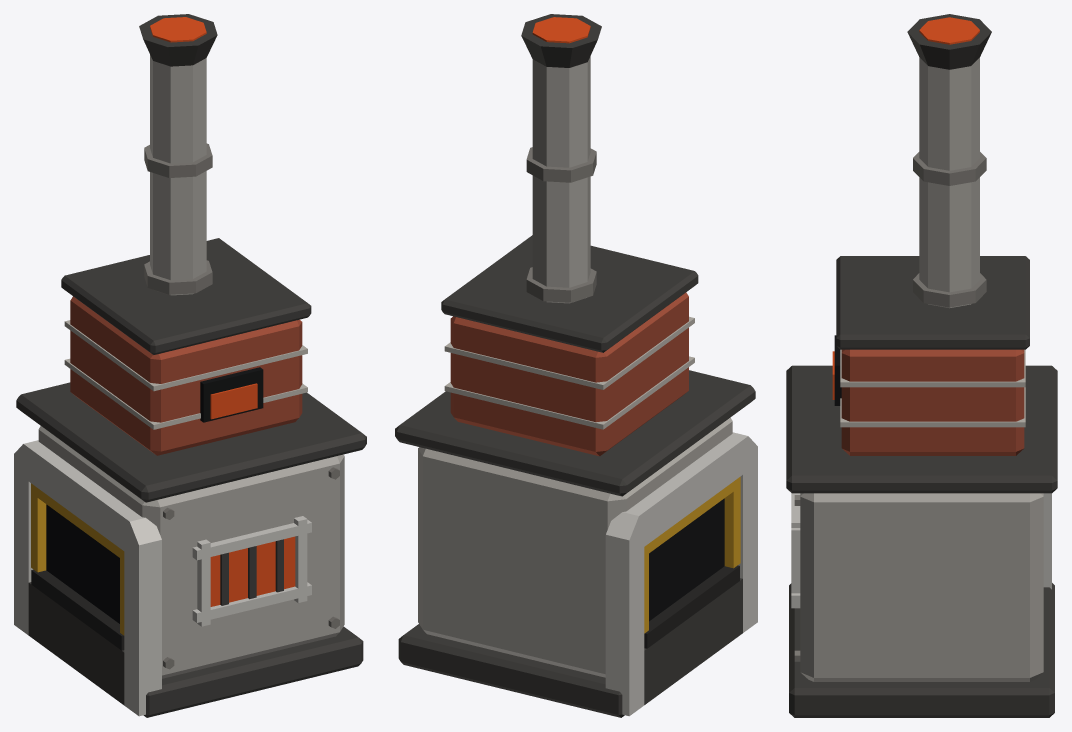
File: incinerator.fbx
The picture shows the model from 3 angles, left to right: view 1: azimuth 30°, elevation 25°; view 2: azimuth 150°, elevation 25°; view 3: azimuth 270°, elevation 25°; orthographic projection. The views are drawn at different scales.
Parts seen in each view (by area): view 1: incinerator; view 2: incinerator; view 3: incinerator.
Boxes of the visible parts, x1=… form: incinerator: x1=14, y1=14, x2=366, y2=717; incinerator: x1=395, y1=14, x2=757, y2=717; incinerator: x1=786, y1=14, x2=1057, y2=717.
Size of the model in its own units: 2.97 by 7.58 by 2.94.
